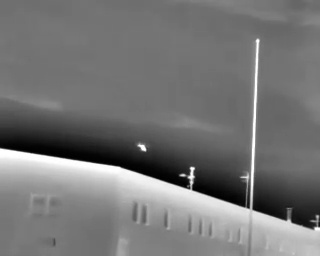HELICOPTER: (135, 139, 154, 156)
